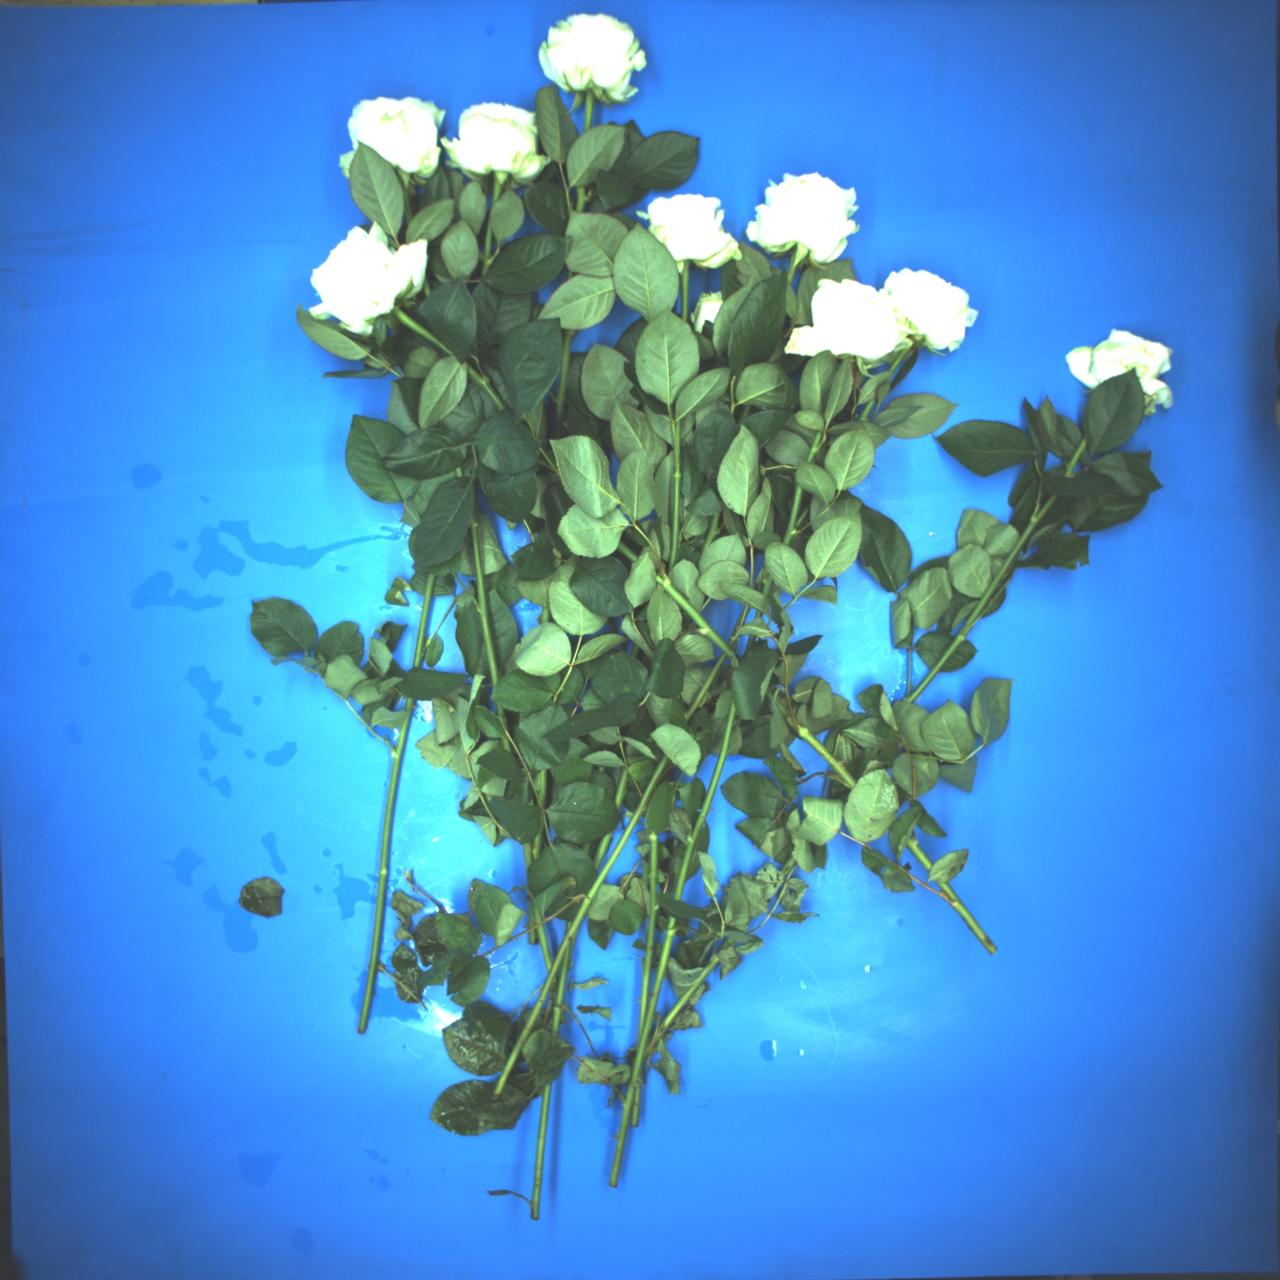Stem: (485, 750, 672, 1099), (903, 484, 1060, 712), (352, 696, 415, 1034), (605, 915, 680, 1187), (669, 697, 743, 900), (638, 954, 721, 1058), (651, 570, 738, 666), (772, 700, 859, 792), (463, 515, 502, 689), (934, 874, 999, 956), (639, 831, 661, 1042), (390, 307, 458, 359), (546, 329, 578, 440), (681, 653, 728, 722), (530, 1083, 552, 1219), (462, 358, 506, 416), (668, 420, 683, 571), (413, 574, 436, 668), (550, 941, 572, 1039), (531, 903, 554, 972), (782, 483, 805, 546), (904, 836, 937, 874), (1062, 436, 1089, 478), (590, 830, 613, 872), (727, 605, 750, 647), (701, 511, 722, 556), (631, 1065, 644, 1128), (496, 704, 511, 754), (611, 770, 629, 810), (482, 220, 493, 278), (888, 343, 912, 372), (532, 812, 545, 860), (783, 251, 801, 284), (805, 430, 823, 463), (858, 396, 876, 423), (536, 768, 547, 808), (617, 542, 638, 563), (794, 505, 813, 527), (583, 94, 594, 131), (527, 904, 538, 945), (680, 270, 688, 322), (778, 856, 798, 877), (489, 176, 503, 204), (522, 842, 533, 871), (761, 573, 774, 597), (576, 188, 587, 212), (738, 403, 751, 424), (742, 635, 755, 655), (550, 978, 558, 1001), (540, 606, 551, 624), (580, 839, 592, 853), (629, 644, 640, 659), (422, 280, 431, 297), (454, 465, 464, 478), (753, 611, 763, 622), (559, 1010, 566, 1024), (565, 921, 571, 934), (598, 765, 605, 772)
flower: (299, 212, 434, 347), (741, 156, 871, 281), (1057, 313, 1191, 421), (867, 253, 986, 362), (638, 179, 743, 293), (787, 274, 906, 363), (338, 90, 445, 186), (440, 97, 554, 185), (686, 285, 726, 335)
